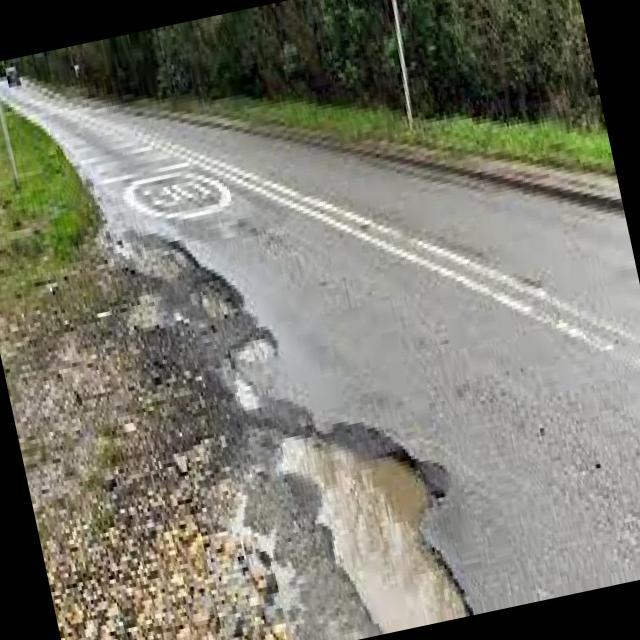Burst: (268, 428, 473, 635)
